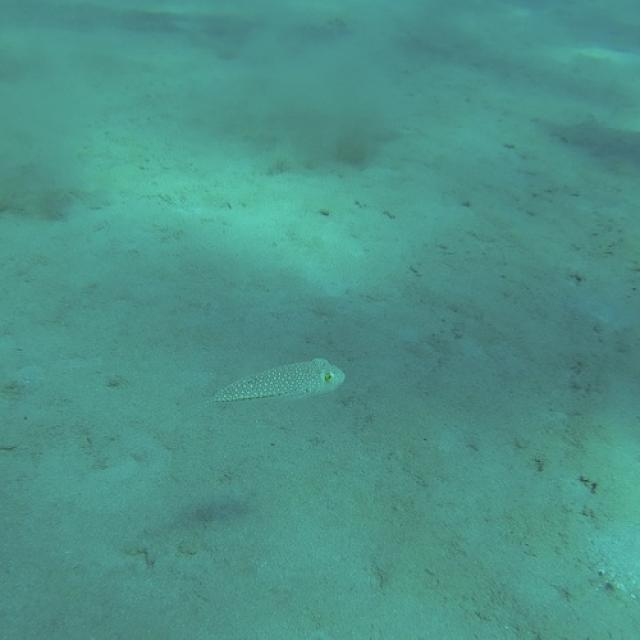Balik: (213, 359, 345, 401)
